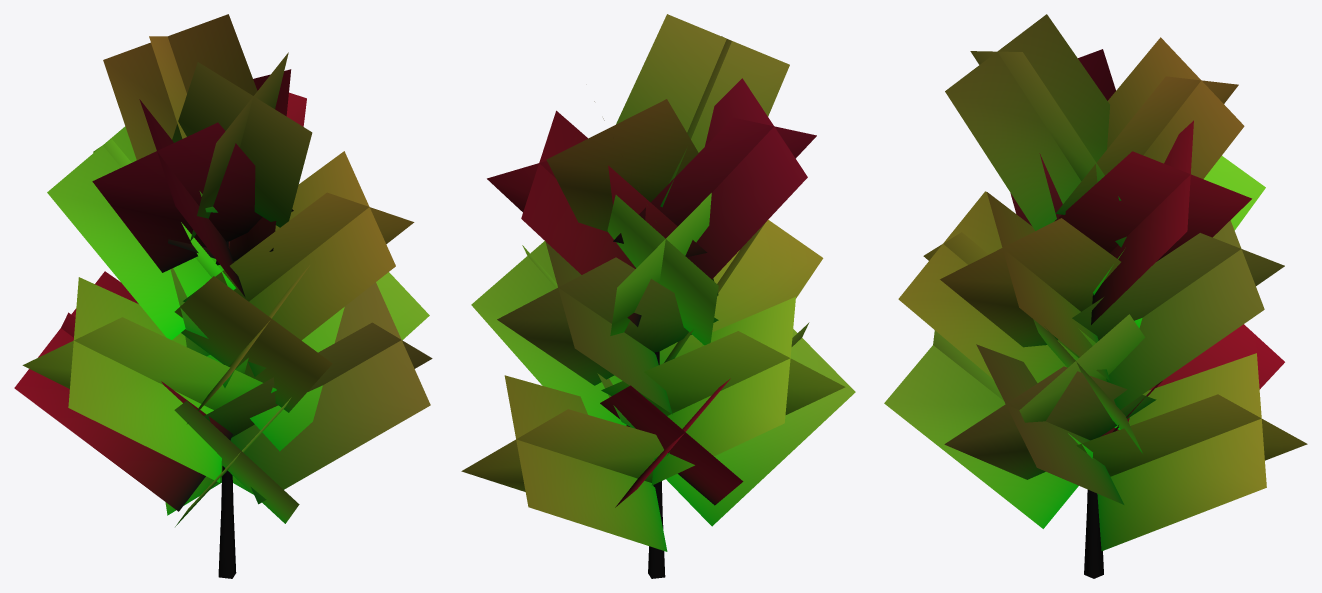
The model's file is SuperTree_2.fbx.
The picture shows the model from 3 angles, left to right: view 1: azimuth 30°, elevation 25°; view 2: azimuth 150°, elevation 25°; view 3: azimuth 270°, elevation 25°; orthographic projection. The views are drawn at different scales.
Parts seen in each view (by area): view 1: SuperTree_2; view 2: SuperTree_2; view 3: SuperTree_2.
Part boxes in pixels (left/top/right/bottom): SuperTree_2: left=14, top=14, right=432, bottom=578; SuperTree_2: left=461, top=14, right=855, bottom=578; SuperTree_2: left=884, top=14, right=1307, bottom=578.
Size of the model in its own units: 498 by 733 by 527.
